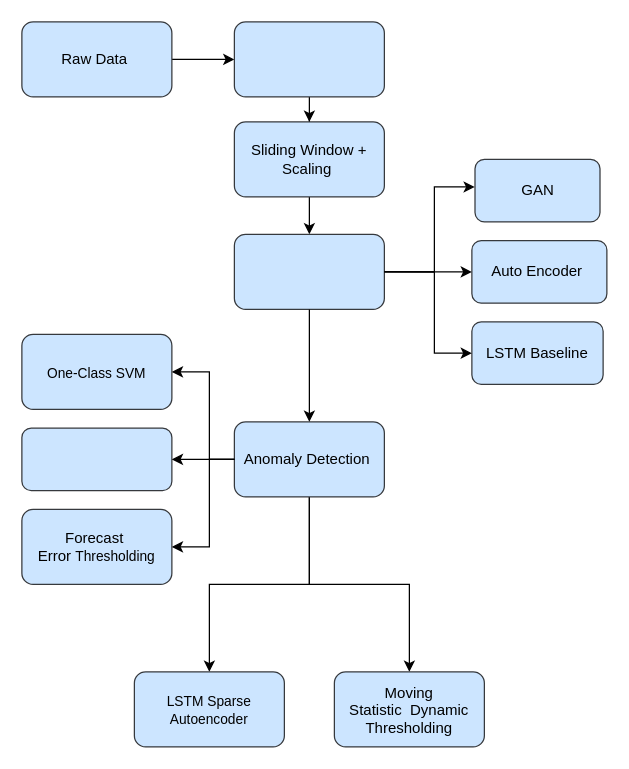
Image size: 629x769. Some labels were removed from this diagram. The shapes that lost their labels are listed below. From the top down, each one's centre as x and y in pixels, then its label:
At (308,59): "Processing".
At (308,271): "Forecasting".
At (96,459): "Isolation Forest".
